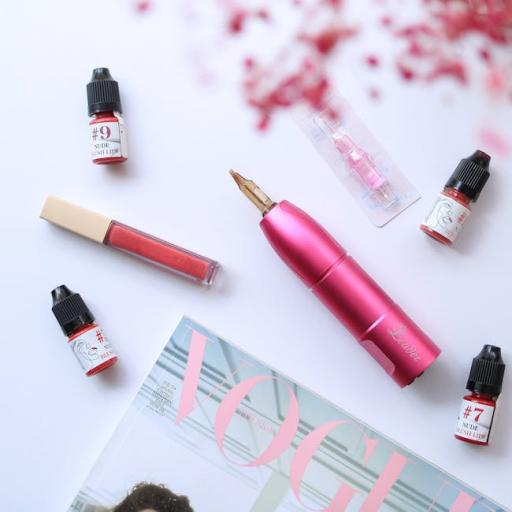lipstick: (231, 171, 440, 386), (41, 197, 218, 285), (316, 110, 397, 208)
